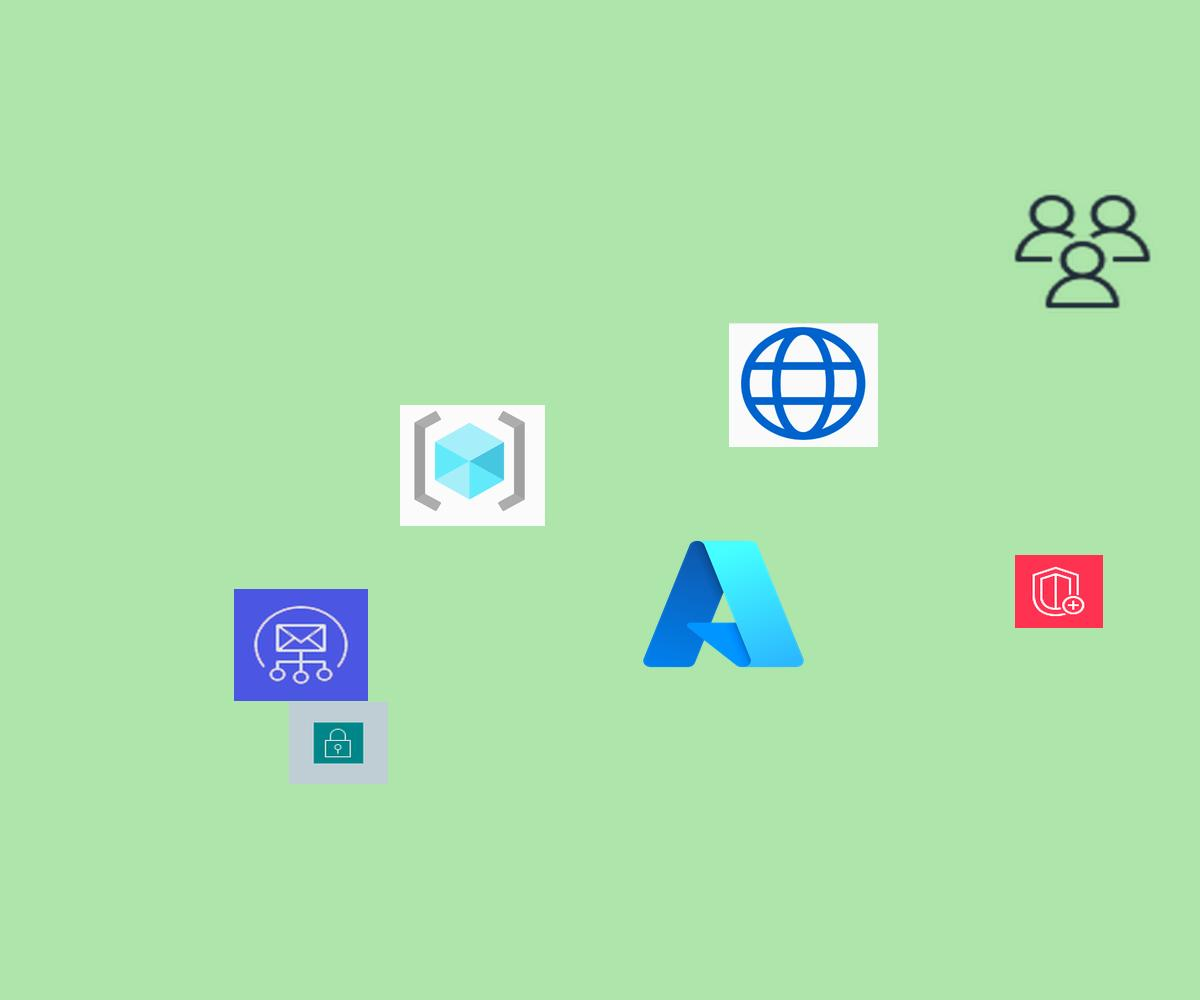AWS-Private-subnet: (289, 702, 388, 784)
AWS-Res_Users: (1009, 190, 1156, 313)
AWS-Shield: (1015, 555, 1103, 628)
AWS-Simple-Email-Service: (234, 589, 368, 701)
Azure_http: (729, 323, 878, 447)
Azure_resource_group: (400, 405, 545, 526)
Azure_services: (636, 531, 811, 677)
